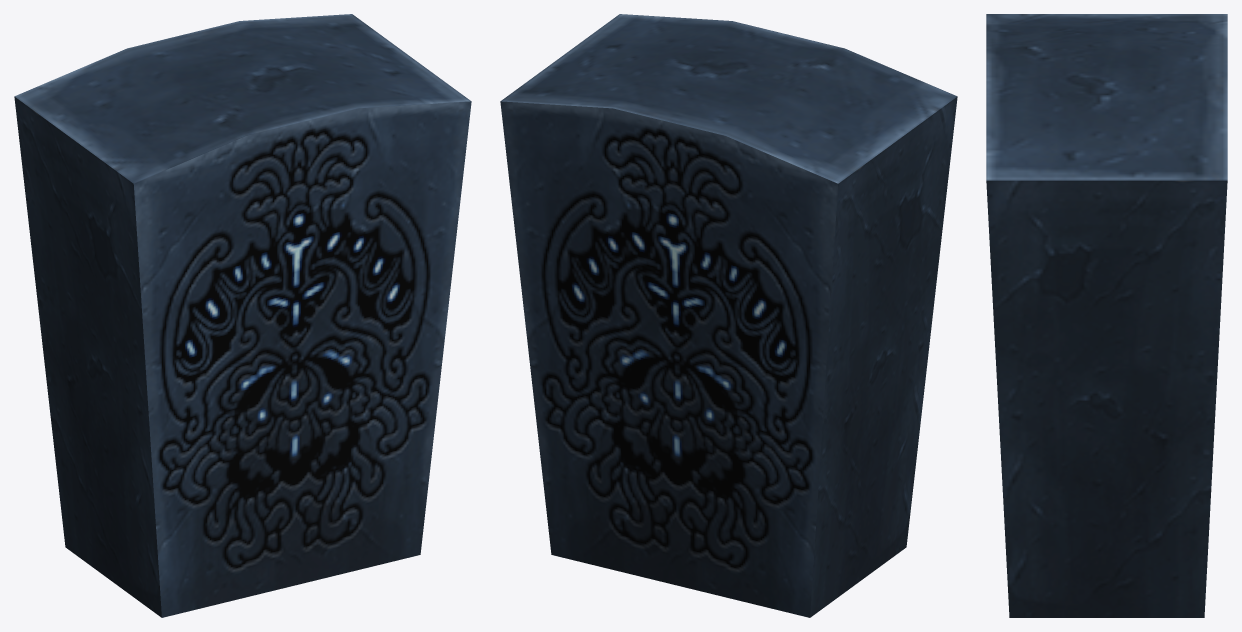
Rendered from mubei.FBX.
The picture shows the model from 3 angles, left to right: view 1: azimuth 30°, elevation 25°; view 2: azimuth 150°, elevation 25°; view 3: azimuth 270°, elevation 25°; orthographic projection.
Parts seen in each view (by area): view 1: mubei; view 2: mubei; view 3: mubei.
Part boxes in pixels (left/top/right/bottom): mubei: left=14, top=14, right=471, bottom=617; mubei: left=500, top=14, right=957, bottom=617; mubei: left=986, top=14, right=1227, bottom=617.
Size of the model in its own units: 365 by 223 by 488.
